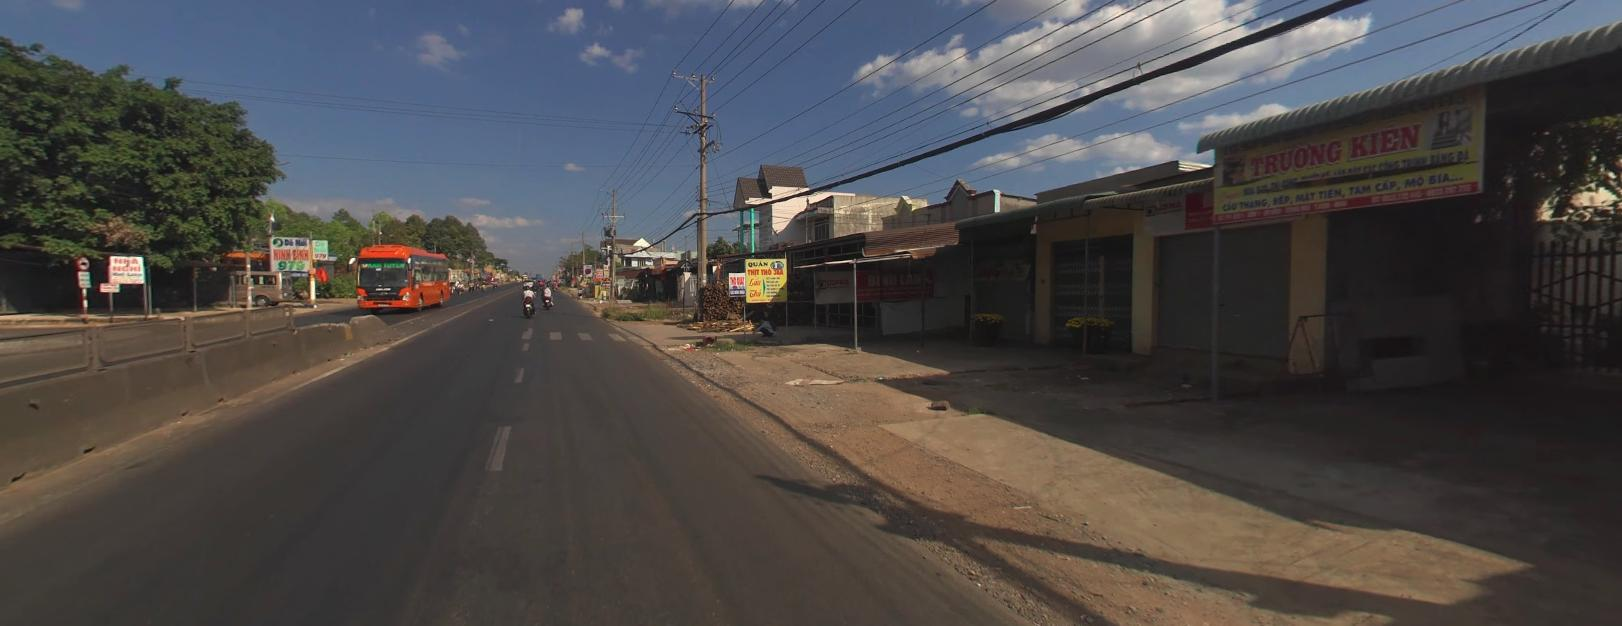Cam dung va do: (585, 267, 591, 272)
